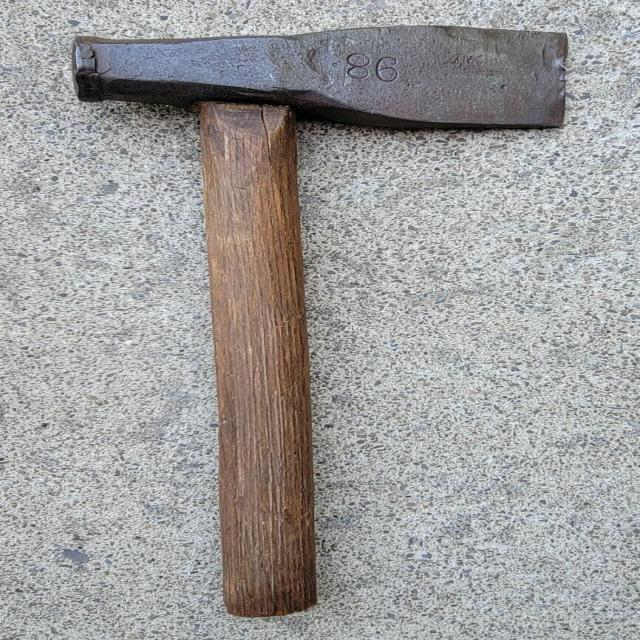hammer: (49, 21, 582, 624)
